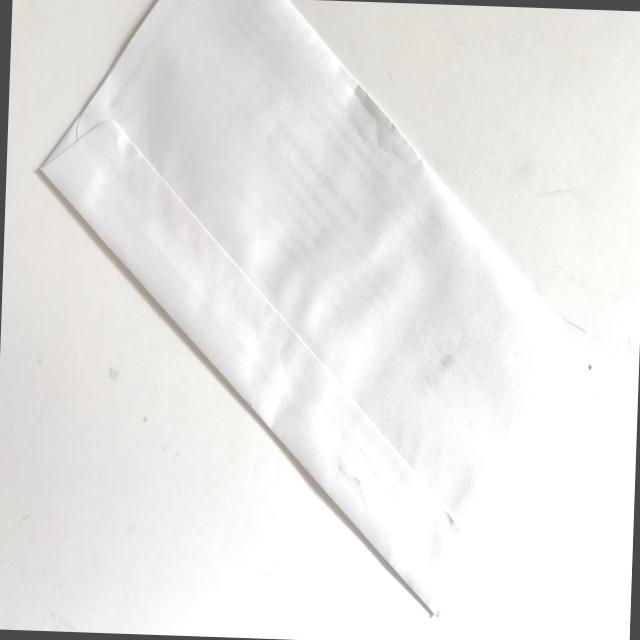Paper: (22, 0, 603, 621)
